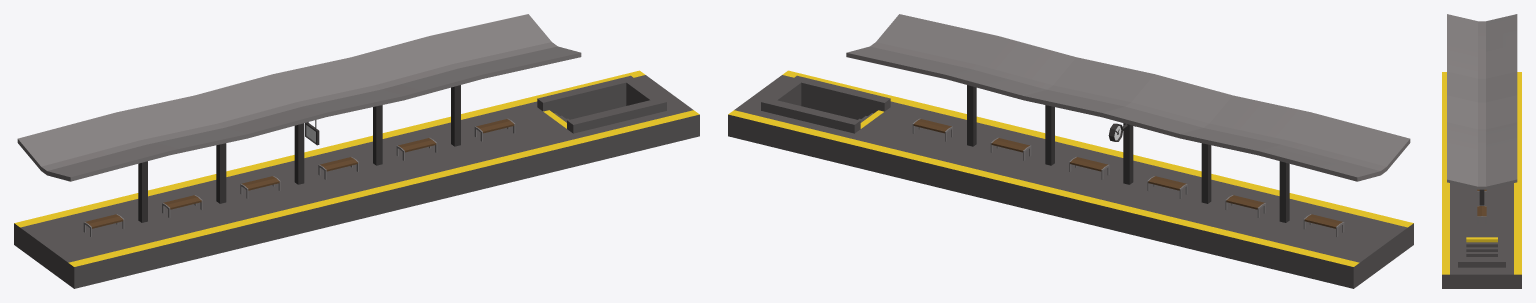
The model's file is buildings_train-station-platform-stairs.fbx.
The picture shows the model from 3 angles, left to right: view 1: azimuth 30°, elevation 25°; view 2: azimuth 150°, elevation 25°; view 3: azimuth 270°, elevation 25°; orthographic projection. The views are drawn at different scales.
Parts seen in each view (by area): view 1: buildings_train_station_platform_stairs; view 2: buildings_train_station_platform_stairs; view 3: buildings_train_station_platform_stairs.
Boxes of the visible parts, x1=… form: buildings_train_station_platform_stairs: x1=14, y1=14, x2=699, y2=288; buildings_train_station_platform_stairs: x1=728, y1=14, x2=1413, y2=288; buildings_train_station_platform_stairs: x1=1442, y1=14, x2=1521, y2=288.
Bounding box in the file's own units: 200 × 33.95 × 33.29.
